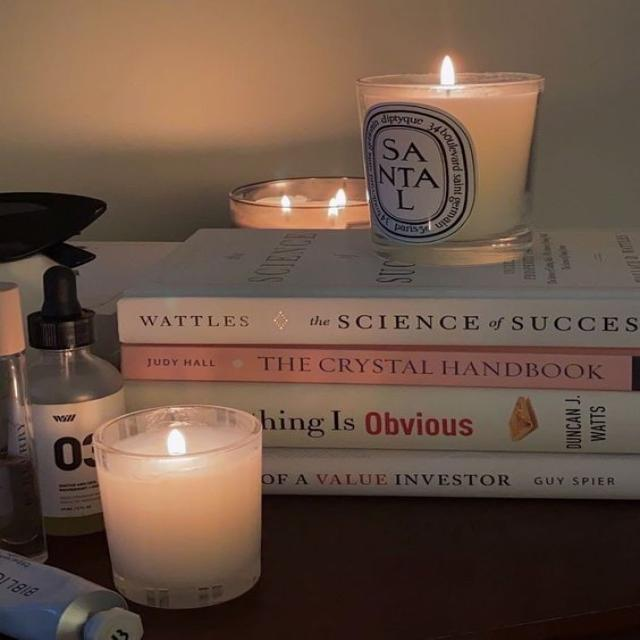book: (127, 383, 639, 453), (121, 301, 640, 346), (121, 345, 630, 390), (264, 450, 639, 499)
candle: (94, 406, 261, 609), (357, 68, 542, 245), (230, 177, 369, 229)
